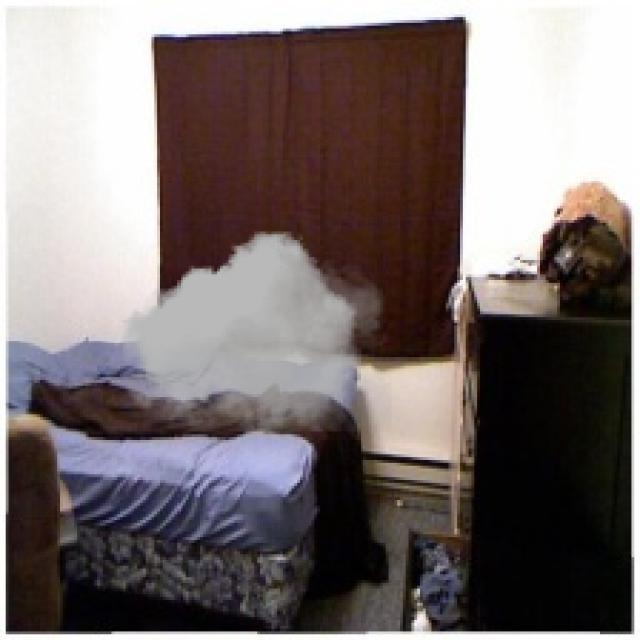Smoke: (117, 232, 392, 432)
